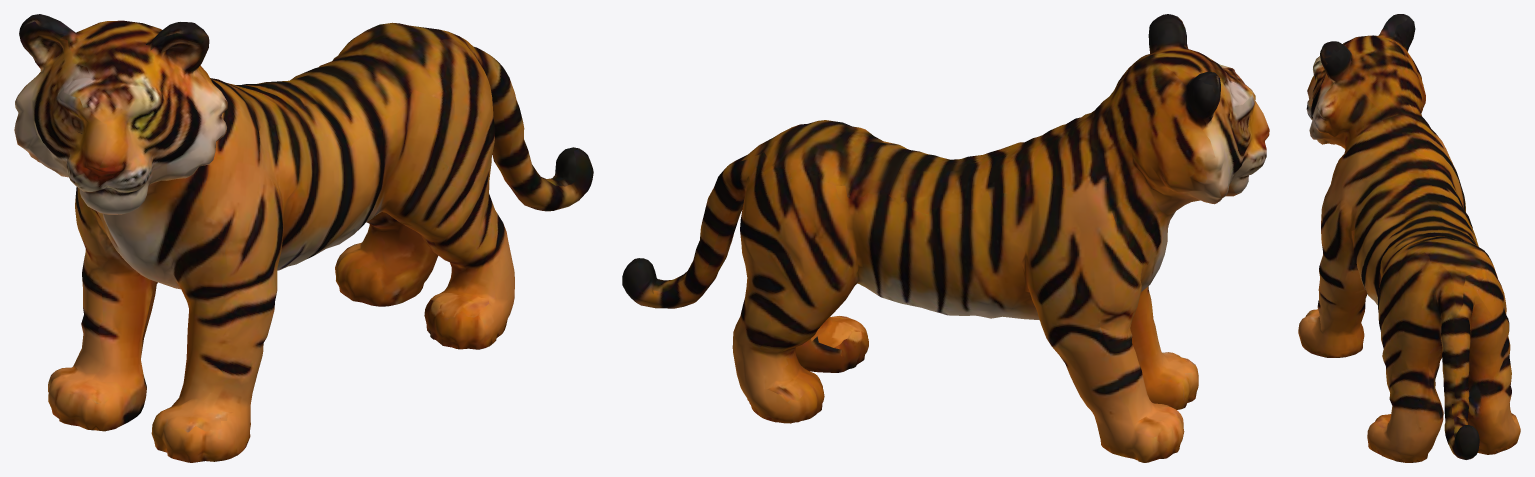
Rendered from mob_bengal_tiger.glb.
The picture shows the model from 3 angles, left to right: view 1: azimuth 30°, elevation 25°; view 2: azimuth 150°, elevation 25°; view 3: azimuth 270°, elevation 25°; orthographic projection. The views are drawn at different scales.
Parts seen in each view (by area): view 1: geometry_0; view 2: geometry_0; view 3: geometry_0.
Boxes of the visible parts, x1,y1,x2,y2 form: geometry_0: (14, 14, 593, 462); geometry_0: (622, 14, 1269, 462); geometry_0: (1298, 14, 1520, 462).
Bounding box in the file's own units: 1.83 × 1.21 × 0.8218.
Materials: 1 (1 with a texture image).
